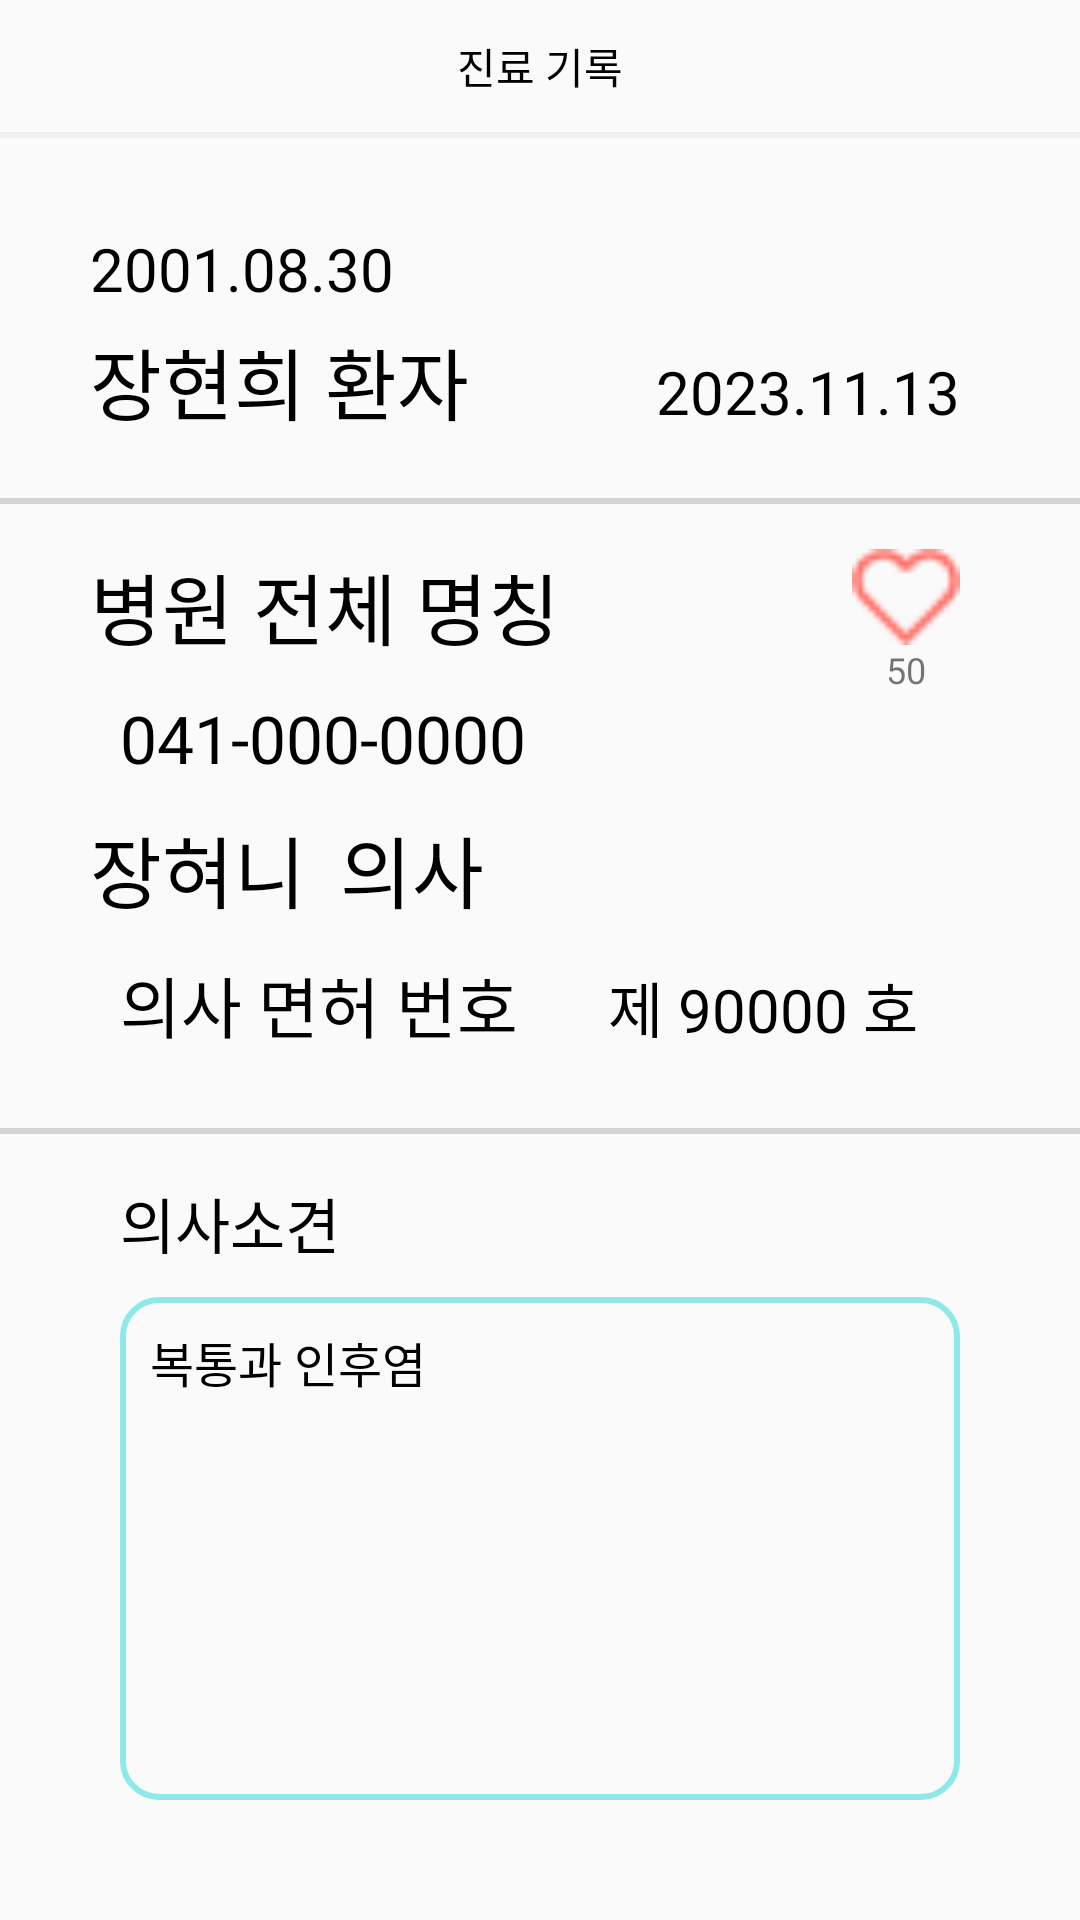

Point at icon controls on the screen. Image size 1080 x 1920, points as (x,y).
heart empty: (906,597)
